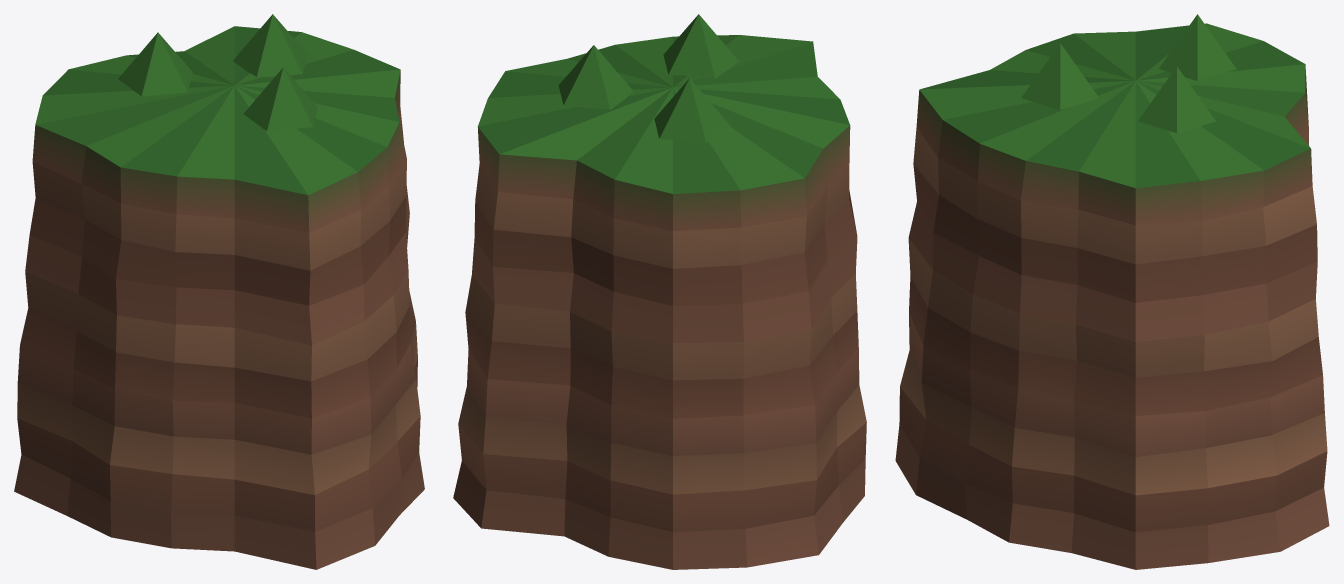
The model's file is Tepui.fbx.
3 views of the same model, side by side, from view 1: azimuth 30°, elevation 25°; view 2: azimuth 150°, elevation 25°; view 3: azimuth 270°, elevation 25° (orthographic). The views are drawn at different scales.
Parts seen in each view (by area): view 1: Tepui; view 2: Tepui; view 3: Tepui.
Part boxes in pixels (left/top/right/bottom): Tepui: left=14, top=14, right=424, bottom=569; Tepui: left=453, top=14, right=866, bottom=569; Tepui: left=895, top=14, right=1329, bottom=569.
Size of the model in its own units: 6.29 by 7.1 by 6.32.
